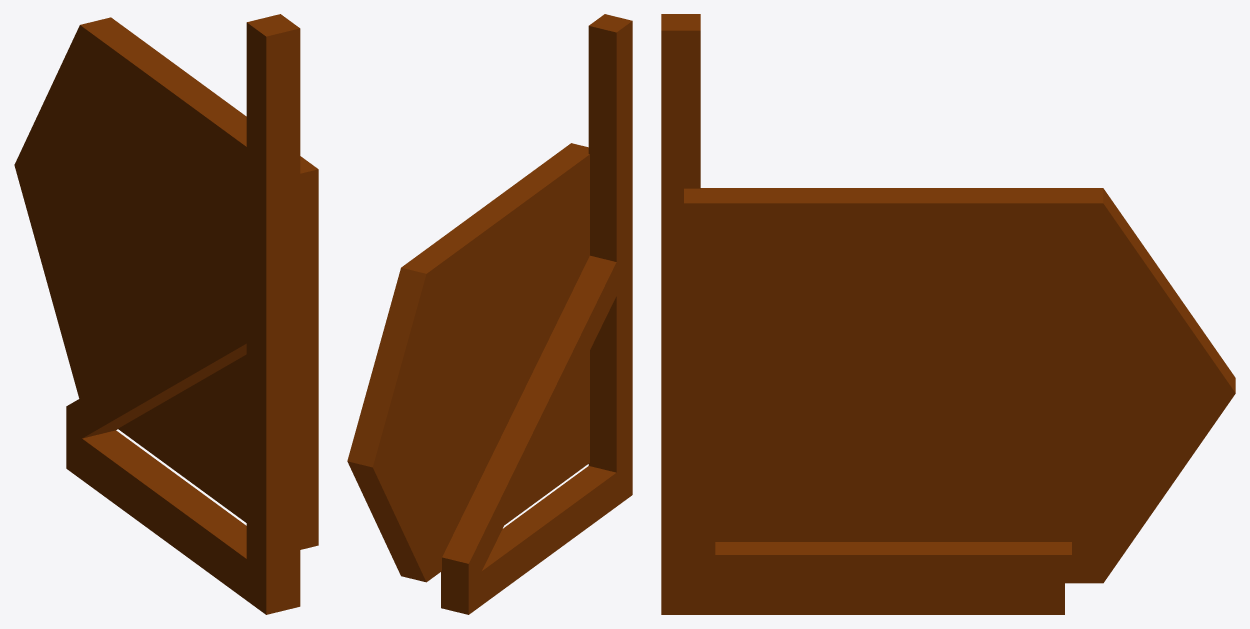
File: house_template_12.fbx
3 renders of one model, left to right at view 1: azimuth 30°, elevation 25°; view 2: azimuth 150°, elevation 25°; view 3: azimuth 270°, elevation 25°, orthographic. The views are drawn at different scales.
Visible parts, largest first — view 1: house template_12; view 2: house template_12; view 3: house template_12.
Boxes of the visible parts, left/top/right/bottom form: house template_12: left=14, top=14, right=318, bottom=614; house template_12: left=347, top=14, right=632, bottom=614; house template_12: left=661, top=14, right=1235, bottom=614.
Size of the model in its own units: 16.06 by 139 by 124.
